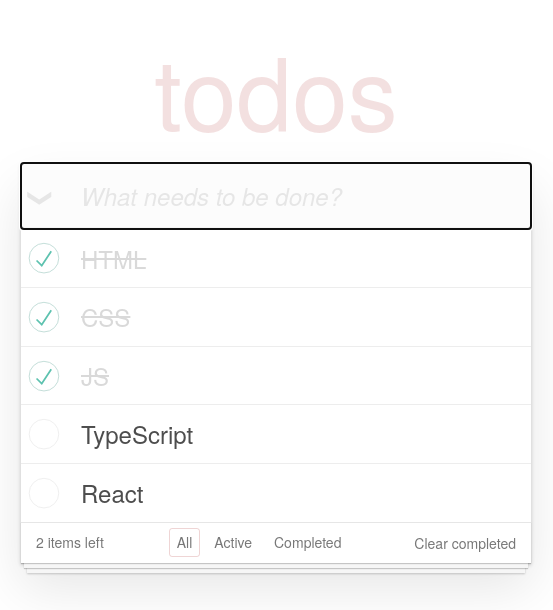
Test case: Renaming › Edit Form › on success › should show the updated title
This screenshot has width=553, height=610.
Expected: the heading "todos" is shown, [154,16,398,159]
Double-click the text with test id "TodoTitle" showing "HTML": (114, 259) [81,241,146,276]
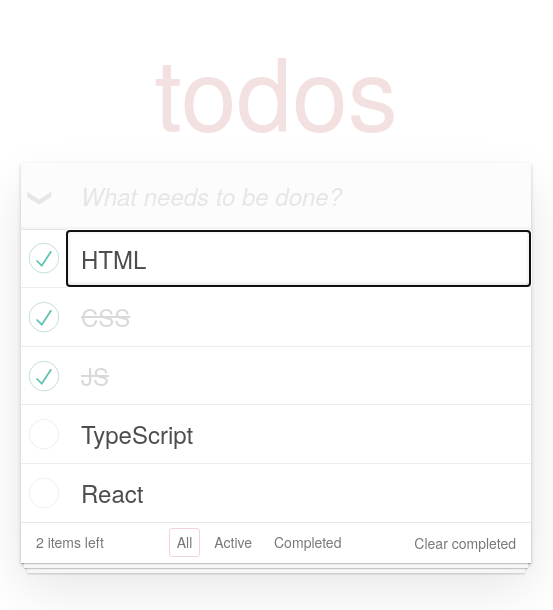
Replace the text in the field with test id "TodoTitleField" with "Something": (299, 259) [66,230,531,288]
Then press Enter
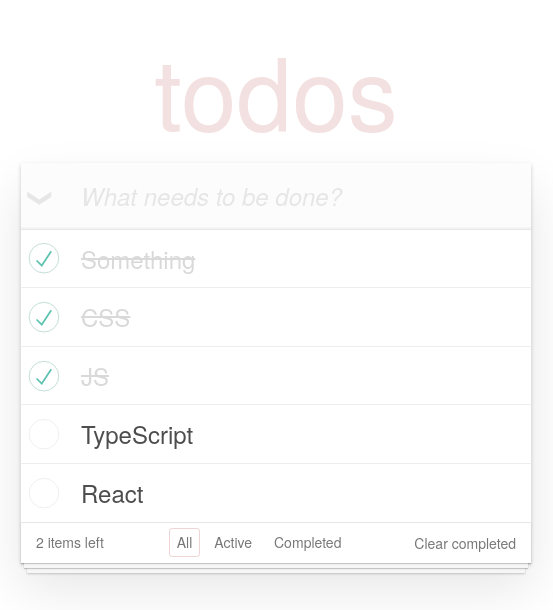
Result: the text with test id "TodoTitle" reads "Something" at [81,241,195,276]
